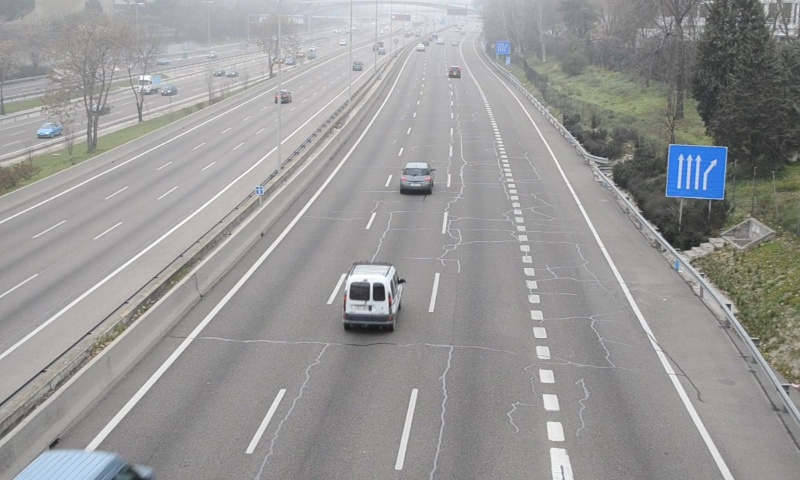car: (400, 162, 433, 192)
van: (341, 265, 402, 330)
